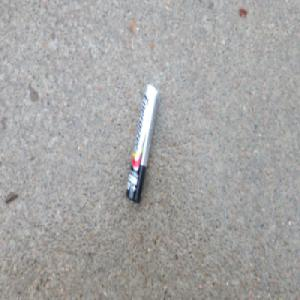Battery: (124, 82, 157, 204)
